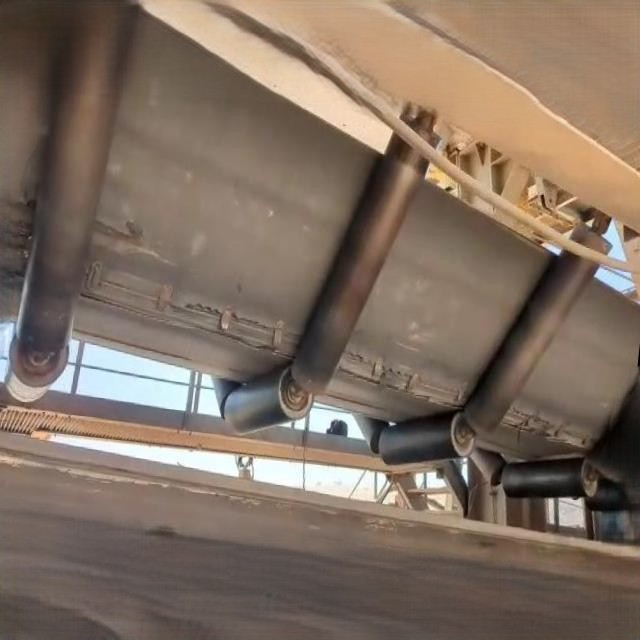Tear: (79, 258, 304, 362), (336, 344, 472, 416), (504, 407, 608, 451), (0, 188, 41, 282)
Wear: (89, 205, 182, 269)
